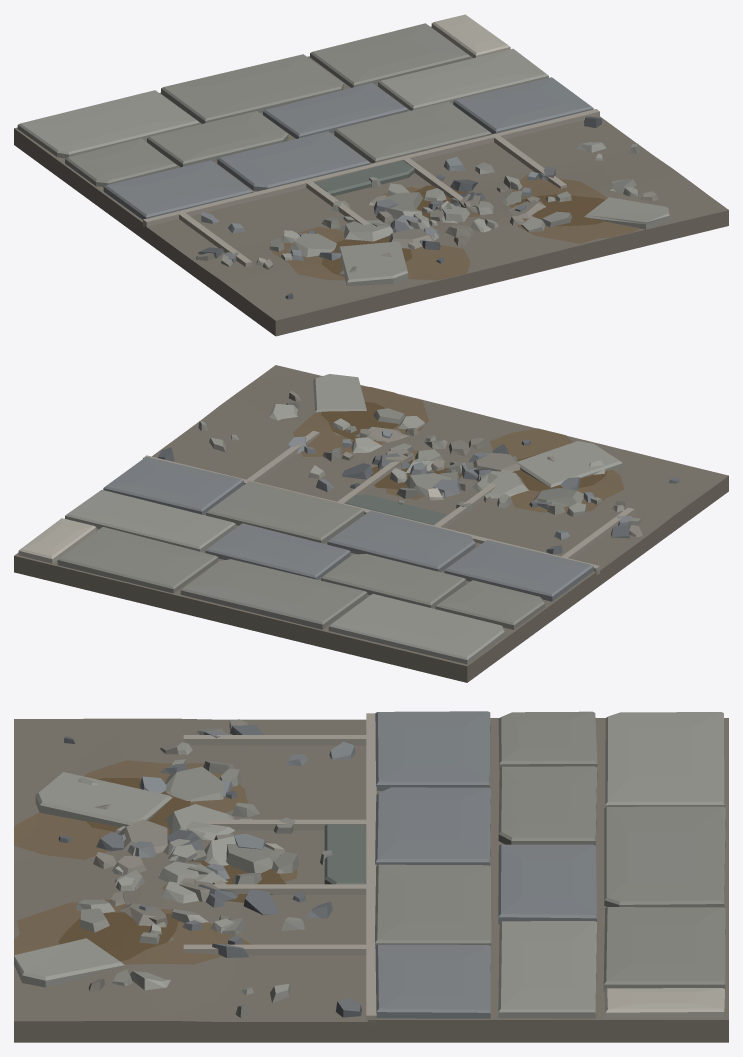
The model's file is SM_LPD_Floor_PavingJoinFlagRubble_01.fbx.
3 renders of one model, top to bottom at view 1: azimuth 30°, elevation 25°; view 2: azimuth 150°, elevation 25°; view 3: azimuth 270°, elevation 25°, orthographic. The views are drawn at different scales.
Visible parts, largest first — view 1: SM_LPD_Floor_PavingJoinFlagRubble_01; view 2: SM_LPD_Floor_PavingJoinFlagRubble_01; view 3: SM_LPD_Floor_PavingJoinFlagRubble_01.
Part boxes in pixels (x1,y1,x2,y2): SM_LPD_Floor_PavingJoinFlagRubble_01: (14,14,728,336); SM_LPD_Floor_PavingJoinFlagRubble_01: (14,365,728,682); SM_LPD_Floor_PavingJoinFlagRubble_01: (14,711,728,1042).
Size of the model in its own units: 4 by 0.2 by 4.
